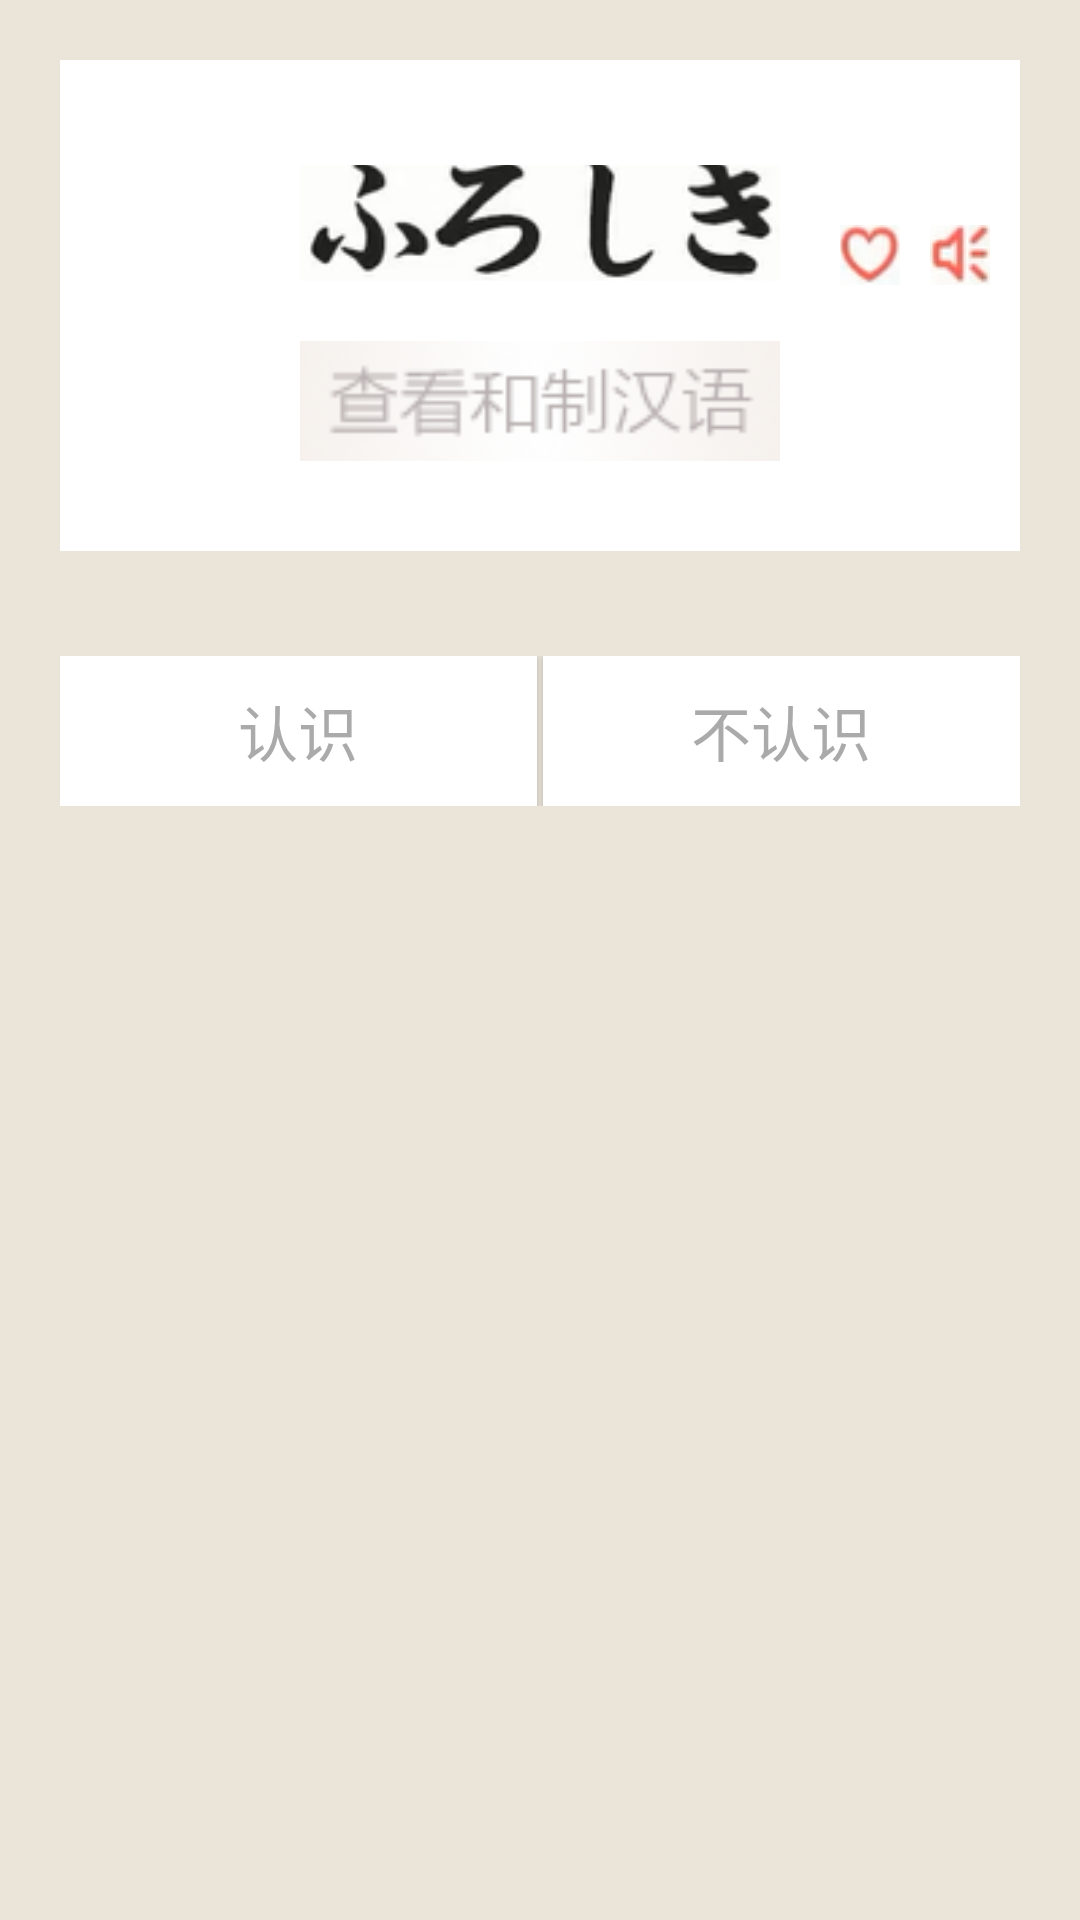

Icons on this 1080 × 1920 Android screen, each with its box as (x1, y1, x2, y2):
like: (840, 225, 900, 283)
sounds: (930, 225, 990, 283)
